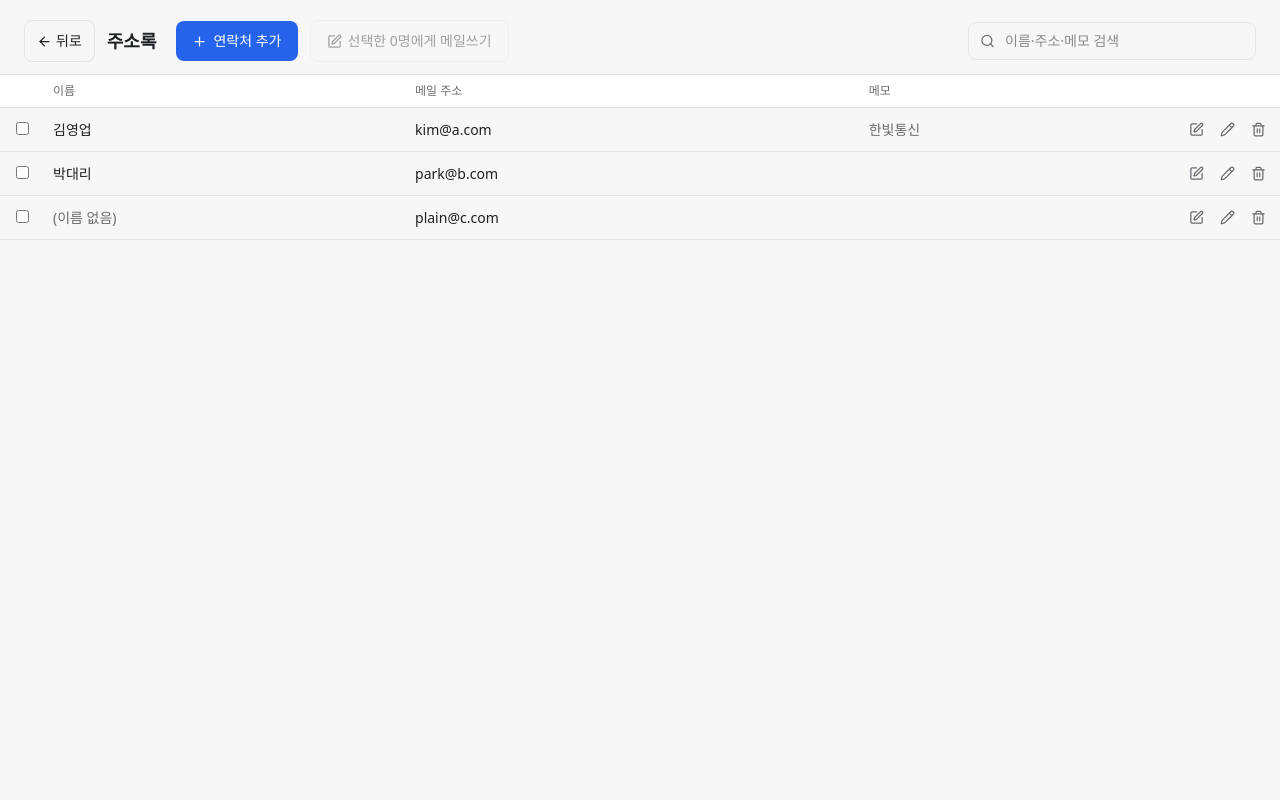
주소록 화면 › [연락처 추가]에서 입력해 저장하면 목록에 나타난다
This screenshot has width=1280, height=800.
Expected: the text "김영업" is shown, 45,108 -> 407,152
Click the button "연락처 추가": (237, 41) 176,21 -> 298,61
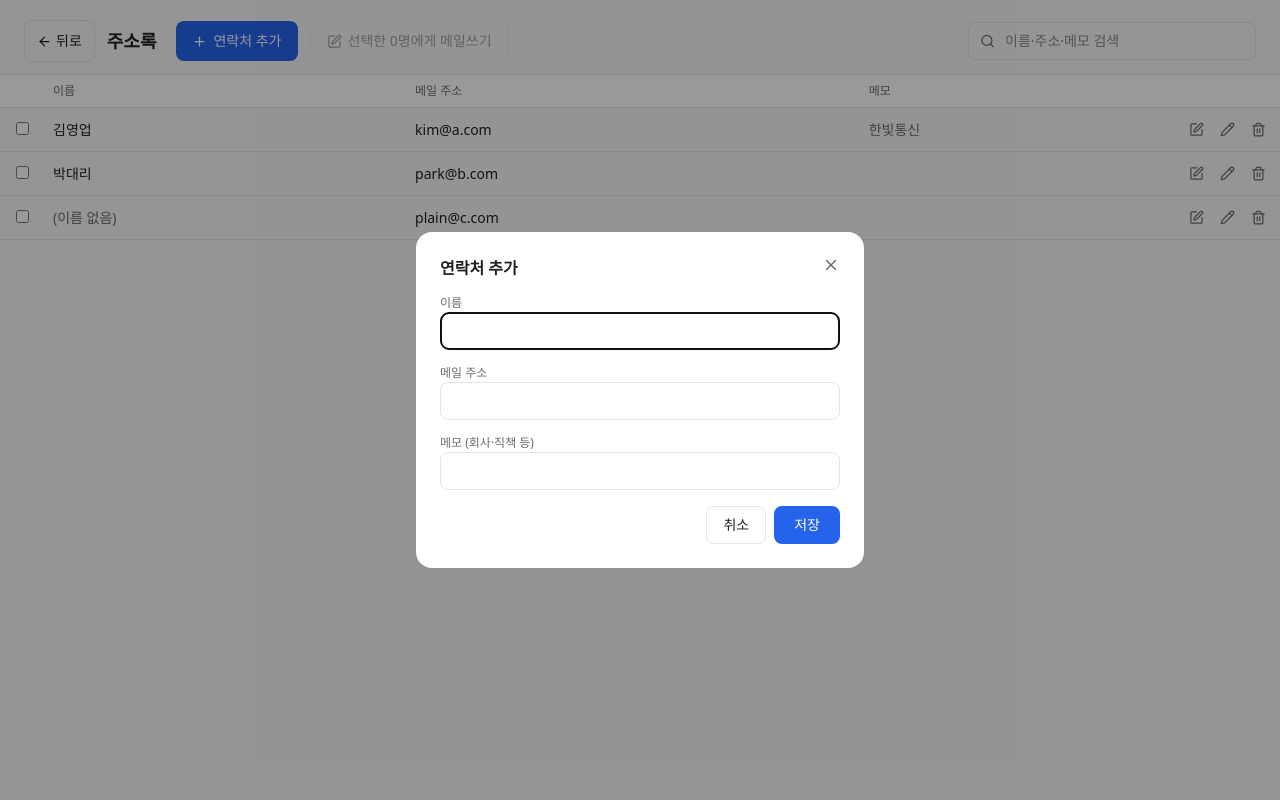
In the field labelled "이름": (640, 331) 440,312 -> 840,350, type "최팀장"
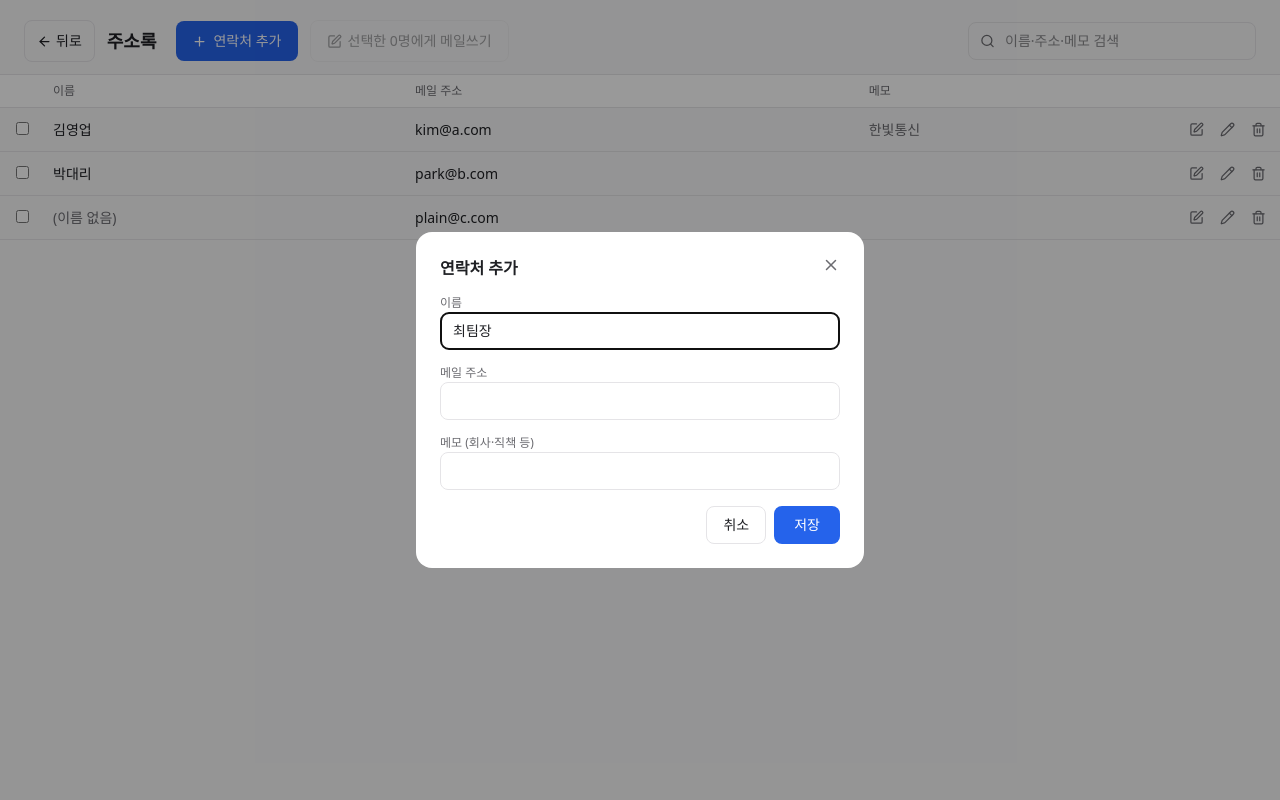
In the field labelled "메일 주소": (640, 401) 440,382 -> 840,420, type "choi@d.com"
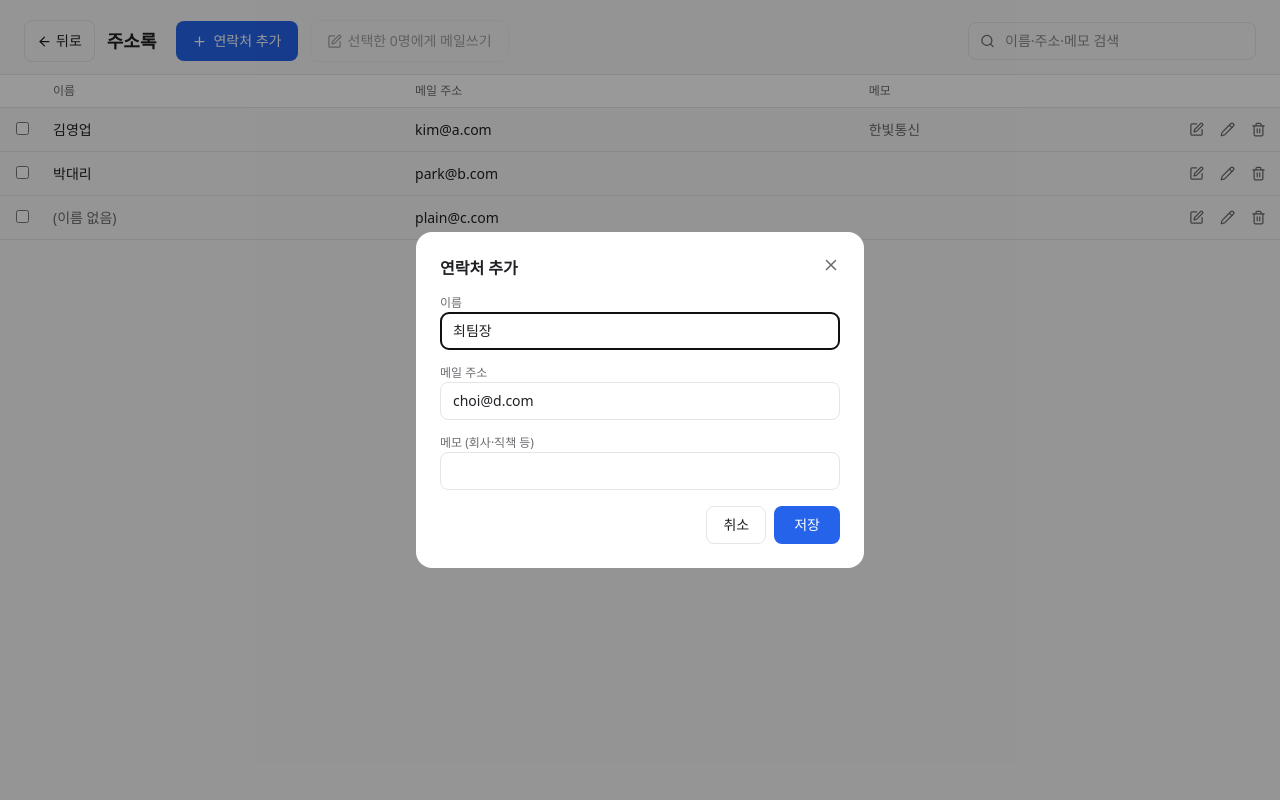
In the field labelled "메모 (회사·직책 등)": (640, 471) 440,452 -> 840,490, type "신규 거래처"
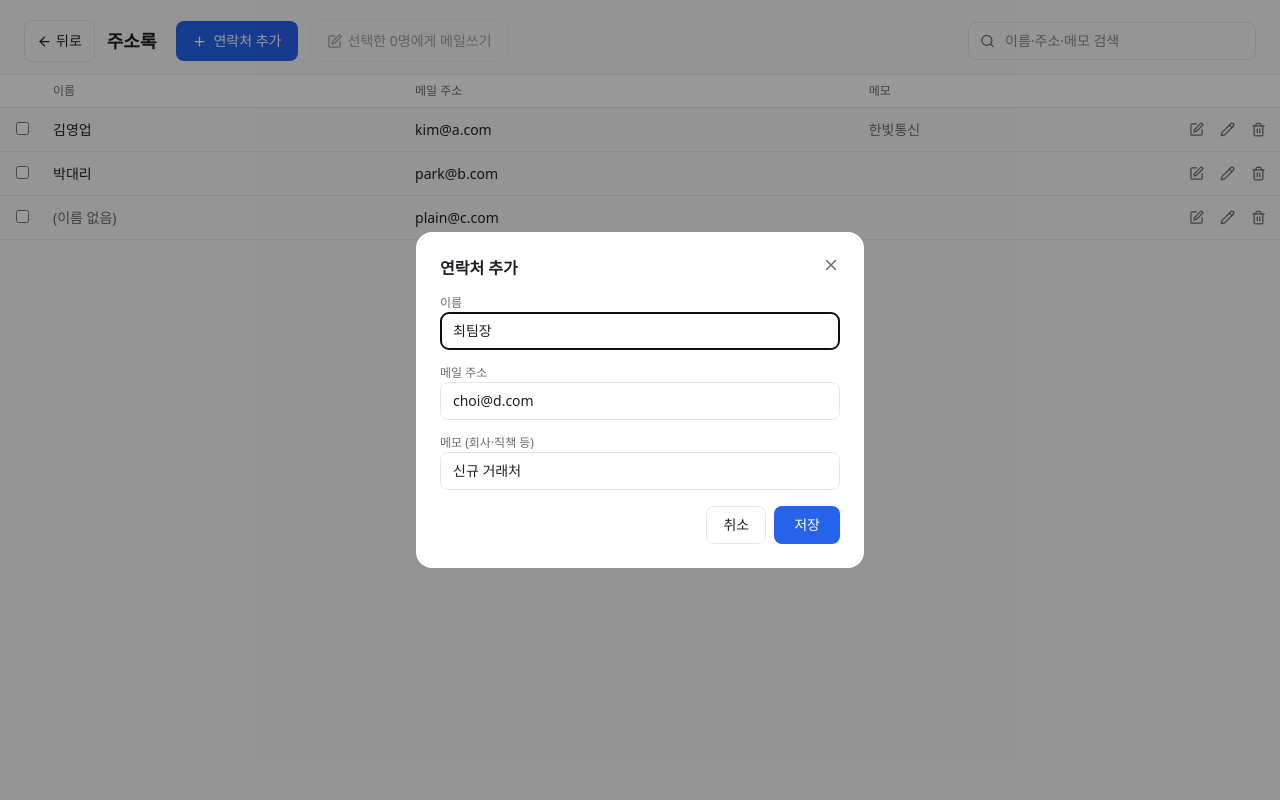
Click the button "저장": (807, 525) 774,506 -> 840,544
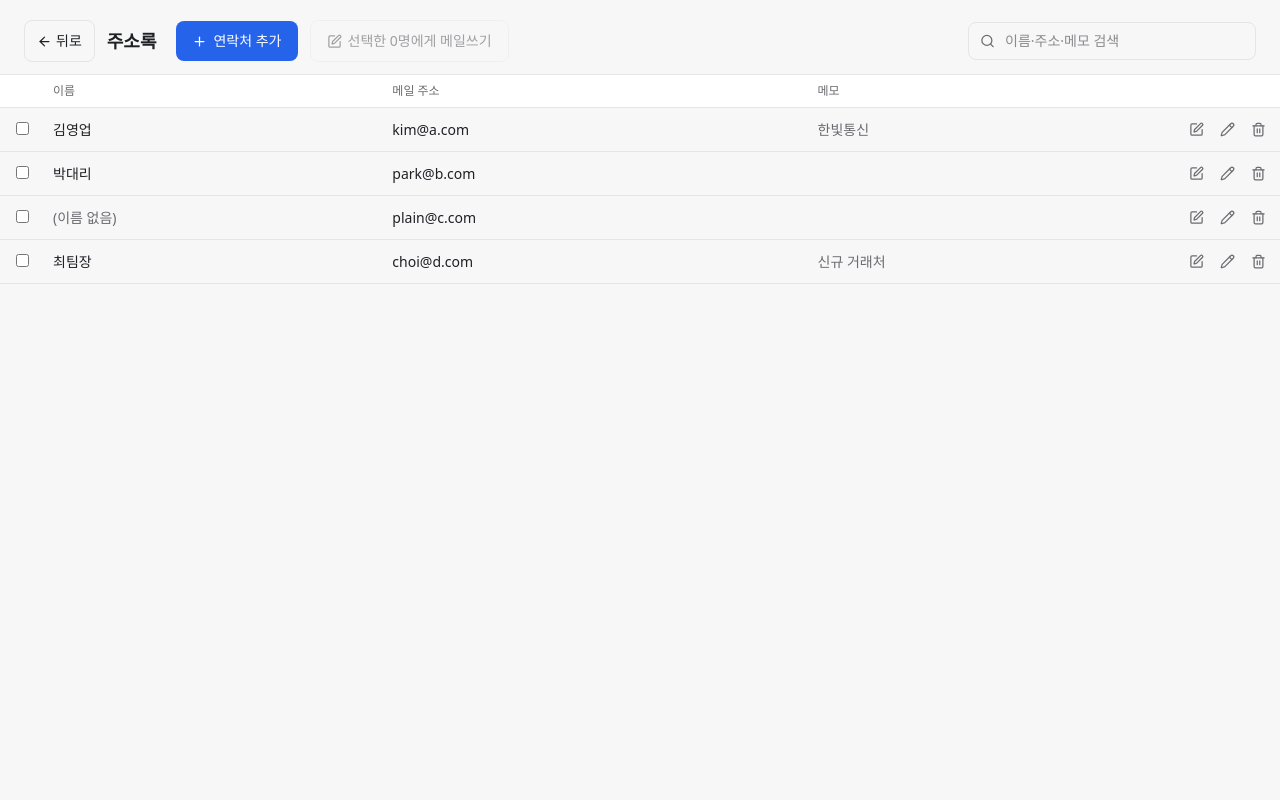
Result: the text "최팀장" is shown at 45,240 -> 384,284
Result: the dialog is gone
